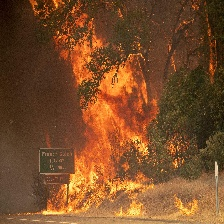fire: (40, 3, 220, 218)
